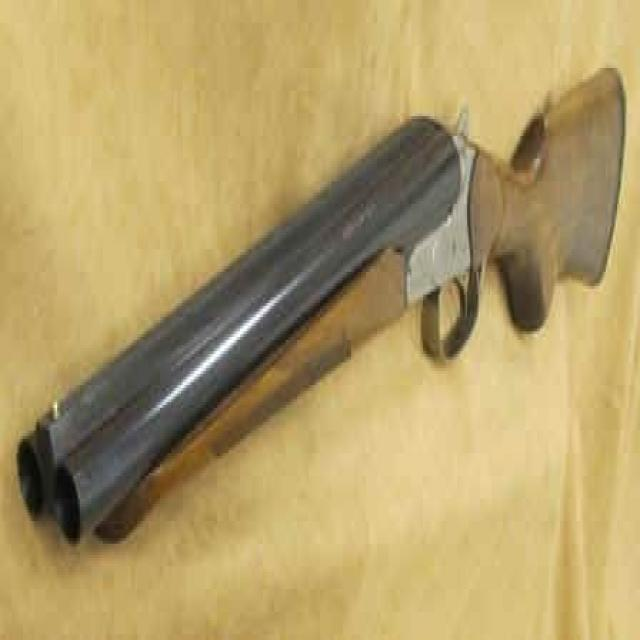shotgun: (1, 42, 639, 568)
